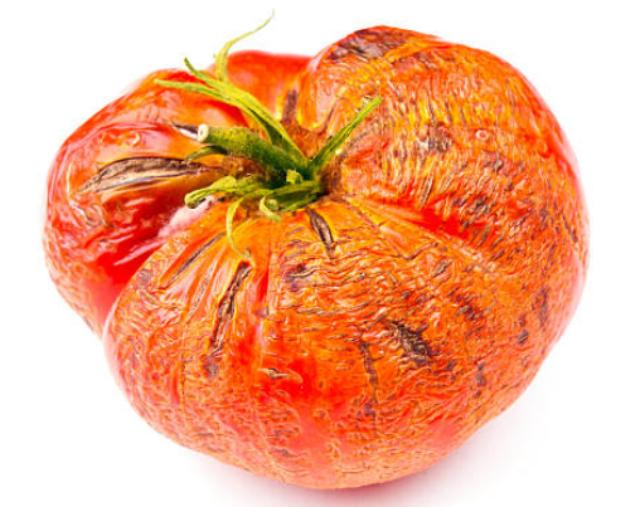defect: (40, 20, 593, 493)
